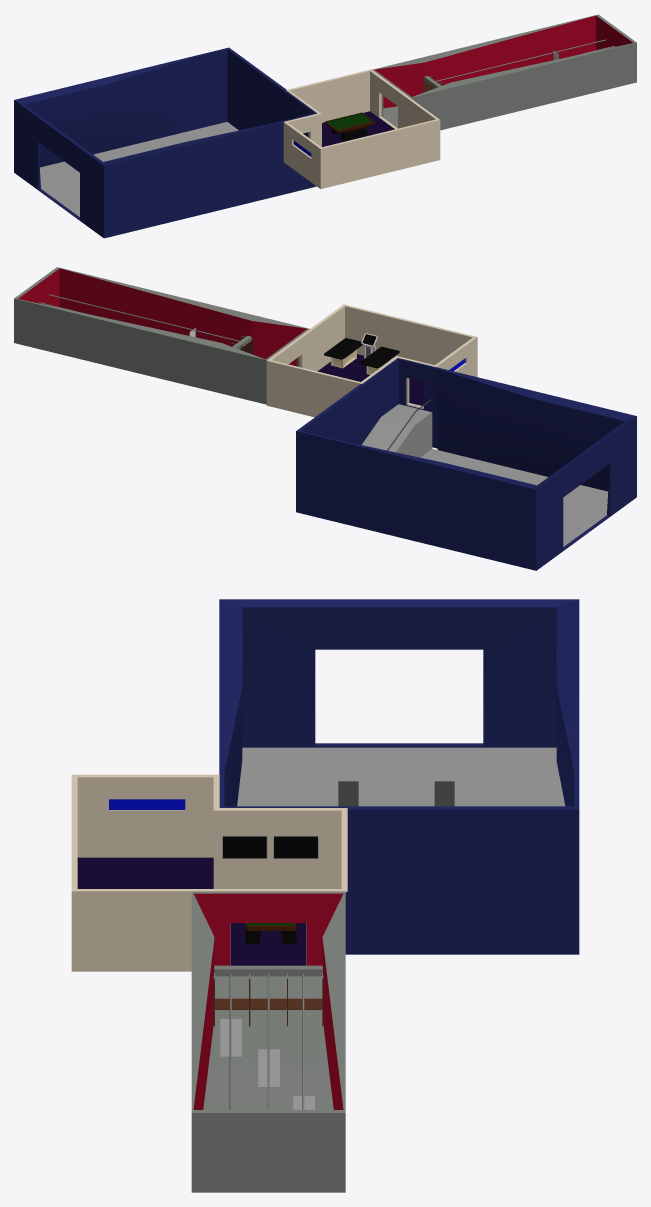
3 renders of one model, top to bottom at view 1: azimuth 30°, elevation 25°; view 2: azimuth 150°, elevation 25°; view 3: azimuth 270°, elevation 25°, orthographic. The views are drawn at different scales.
Visible parts, largest first — view 1: Wall2B, Wall2D, Shooting range.002, Shooting range.001, Building.006, Wall2C, Wall2A, Plane, Wall 1A, Wall 1B, Wall 1E, Plane.001 (+4 smaller); view 2: Wall2D, Wall2B, Shooting range.001, Shooting range.002, Wall2C, Plane, Building.006, Wall2A, Wall 1A, Wall 1B, Wall2E, Building (+4 smaller); view 3: Wall2A, Wall2C, Plane, Shooting range.003, Shooting range, Wall 1E, Wall 1B, Wall 1C, Building, Shooting range.004, Wall2D, Wall2B (+6 smaller).
Part boxes in pixels (<box>): Wall2B: <box>103,121,283,238</box>; Wall2D: <box>14,47,228,167</box>; Shooting range.002: <box>410,42,636,130</box>; Shooting range.001: <box>372,14,597,108</box>; Building.006: <box>320,119,440,188</box>; Wall2C: <box>14,100,103,237</box>; Wall2A: <box>227,47,316,136</box>; Plane: <box>19,122,238,232</box>; Wall 1A: <box>286,69,370,122</box>; Wall 1B: <box>370,69,439,129</box>; Wall 1E: <box>283,122,321,188</box>; Plane.001: <box>325,112,374,140</box>; Wall2D: <box>296,431,536,570</box>; Wall2B: <box>436,367,636,491</box>; Shooting range.001: <box>14,298,266,404</box>; Shooting range.002: <box>58,267,309,366</box>; Wall2C: <box>536,416,636,570</box>; Plane: <box>362,399,632,564</box>; Building.006: <box>344,304,476,364</box>; Wall2A: <box>297,358,398,444</box>; Wall 1A: <box>266,360,361,417</box>; Wall 1B: <box>267,304,344,371</box>; Wall2E: <box>397,358,437,448</box>; Building: <box>317,354,423,407</box>; Wall2A: <box>222,806,579,954</box>; Wall2C: <box>220,599,578,747</box>; Plane: <box>237,747,565,806</box>; Shooting range.003: <box>191,1110,345,1192</box>; Shooting range: <box>203,976,333,1109</box>; Wall 1E: <box>72,774,218,857</box>; Wall 1B: <box>71,889,347,971</box>; Wall 1C: <box>213,808,347,888</box>; Building: <box>77,857,306,965</box>; Shooting range.004: <box>192,891,344,965</box>; Wall2D: <box>556,599,579,808</box>; Wall2B: <box>219,599,242,806</box>.
Size of the model in its own units: 15479 by 2054 by 6472.
